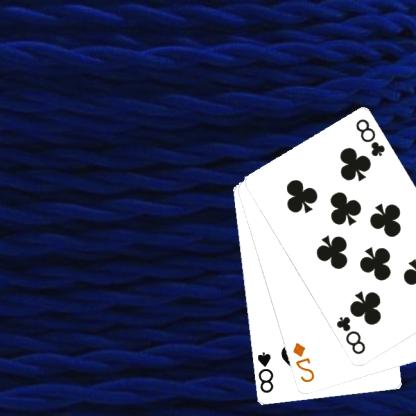2D: (291, 340, 318, 384)
8C: (354, 116, 388, 159), (335, 314, 369, 356)
8S: (256, 349, 277, 395)
